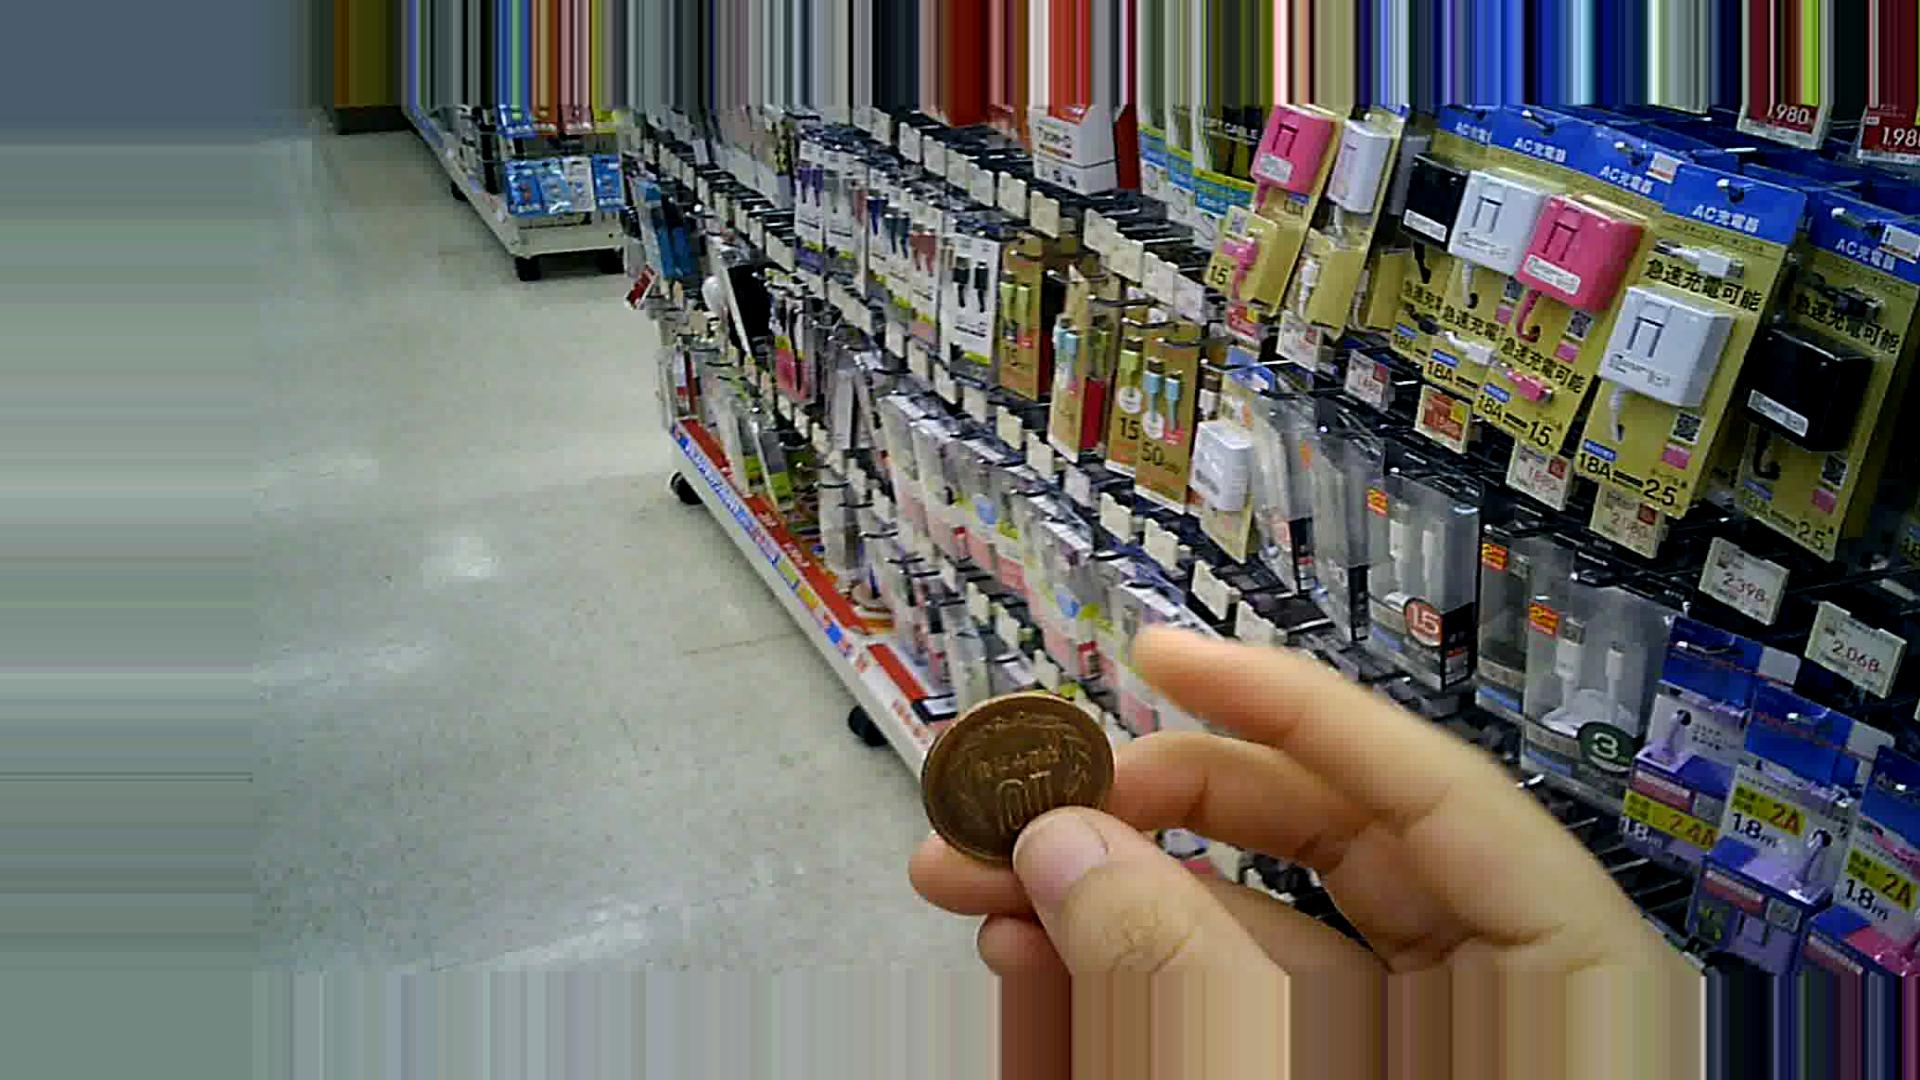10 Yen: (919, 698, 1124, 858)
